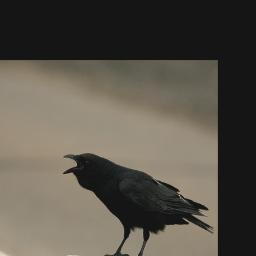Crow: (63, 153, 214, 256)
